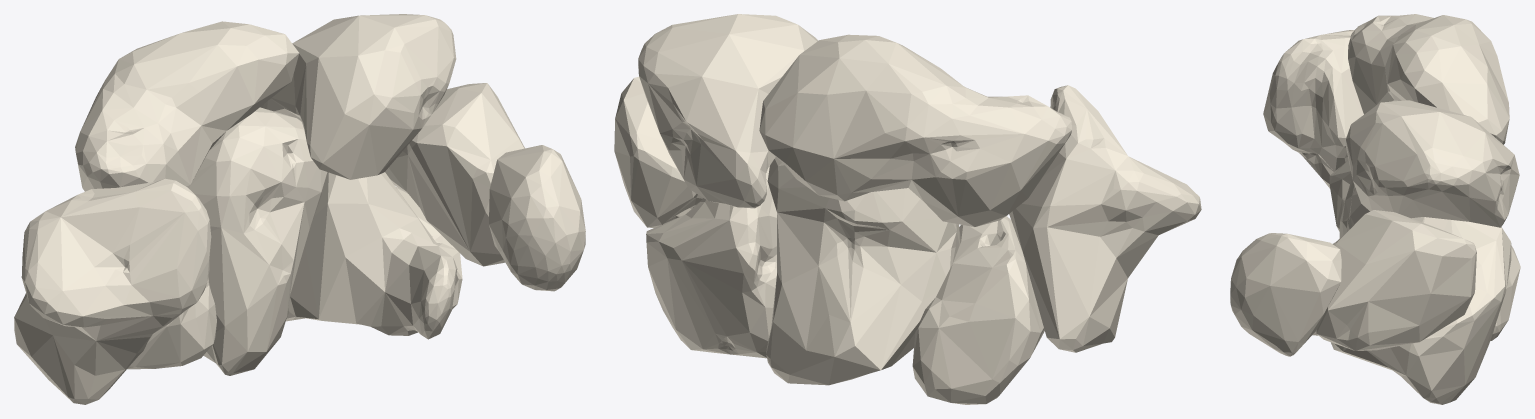
File: wrist-bone.glb
3 views of the same model, side by side, from view 1: azimuth 30°, elevation 25°; view 2: azimuth 150°, elevation 25°; view 3: azimuth 270°, elevation 25° (orthographic). The views are drawn at different scales.
Visible parts, largest first — view 1: trapezium__BP8566, scaphoid__BP8724, capitate__BP8528, lunate__BP9284, hamate__BP9266, triquetrum__BP8307, pisiform__BP8770, trapezoid__BP7880; view 2: scaphoid__BP8724, capitate__BP8528, trapezium__BP8566, lunate__BP9284, hamate__BP9266, trapezoid__BP7880, triquetrum__BP8307; view 3: lunate__BP9284, triquetrum__BP8307, scaphoid__BP8724, hamate__BP9266, pisiform__BP8770, trapezium__BP8566, capitate__BP8528, trapezoid__BP7880.
Part boxes in pixels (left/top/right/bottom): trapezium__BP8566: left=14, top=178, right=211, bottom=404; scaphoid__BP8724: left=75, top=21, right=299, bottom=191; capitate__BP8528: left=188, top=107, right=327, bottom=375; lunate__BP9284: left=260, top=14, right=456, bottom=179; hamate__BP9266: left=286, top=172, right=462, bottom=339; triquetrum__BP8307: left=385, top=83, right=524, bottom=266; pisiform__BP8770: left=489, top=145, right=585, bottom=291; trapezoid__BP7880: left=127, top=276, right=216, bottom=369; scaphoid__BP8724: left=759, top=34, right=1071, bottom=226; capitate__BP8528: left=766, top=157, right=959, bottom=385; trapezium__BP8566: left=1009, top=85, right=1201, bottom=352; lunate__BP9284: left=638, top=14, right=818, bottom=208; hamate__BP9266: left=646, top=166, right=776, bottom=358; trapezoid__BP7880: left=912, top=216, right=1044, bottom=404; triquetrum__BP8307: left=614, top=77, right=702, bottom=227; lunate__BP9284: left=1345, top=100, right=1519, bottom=227; triquetrum__BP8307: left=1316, top=210, right=1476, bottom=350; scaphoid__BP8724: left=1348, top=14, right=1509, bottom=144; hamate__BP9266: left=1312, top=217, right=1511, bottom=404; pisiform__BP8770: left=1230, top=233, right=1341, bottom=356; trapezium__BP8566: left=1263, top=30, right=1363, bottom=188; capitate__BP8528: left=1339, top=100, right=1520, bottom=340; trapezoid__BP7880: left=1329, top=160, right=1352, bottom=231.
Size of the model in its own units: 0.4977 by 0.305 by 0.2712.
